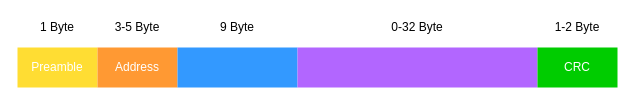
Image size: 634x104. Some labels were removed from this diagram. Each missing label, with the centre of its shape:
Packet Control: (x=237, y=67)
Payload: (x=417, y=67)
